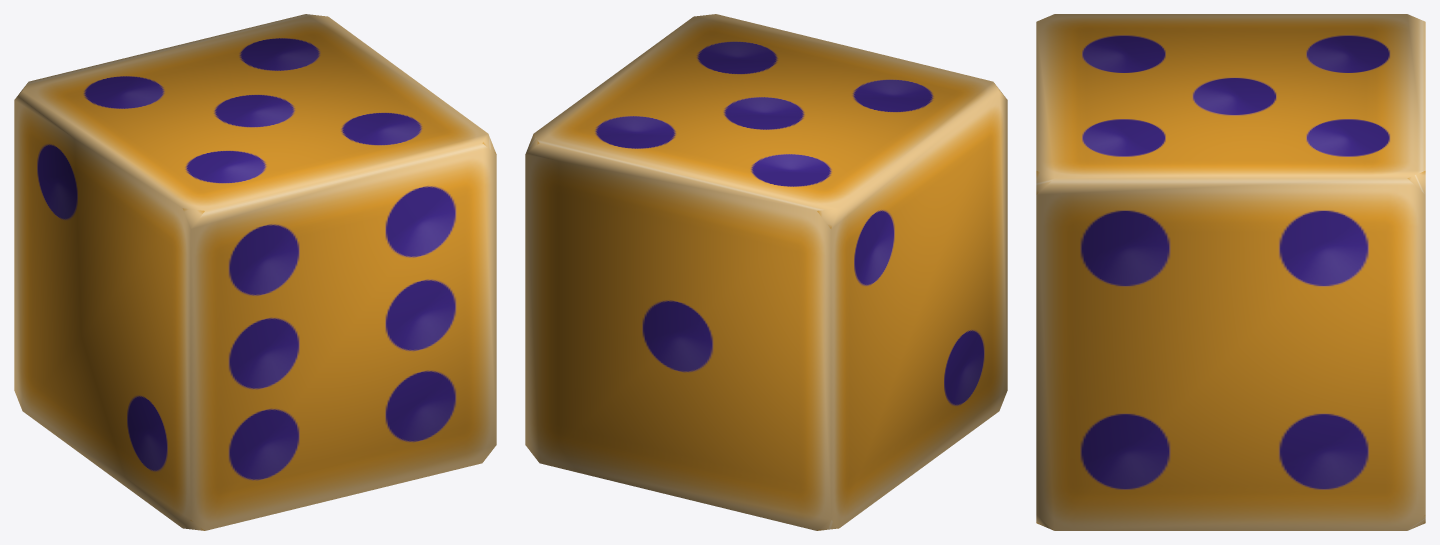
Rendered from die.FBX.
The picture shows the model from 3 angles, left to right: view 1: azimuth 30°, elevation 25°; view 2: azimuth 150°, elevation 25°; view 3: azimuth 270°, elevation 25°; orthographic projection. The views are drawn at different scales.
Visible parts, largest first — view 1: die; view 2: die; view 3: die.
Boxes of the visible parts, left/top/right/bottom form: die: left=14, top=14, right=496, bottom=530; die: left=525, top=14, right=1007, bottom=530; die: left=1036, top=14, right=1425, bottom=530.
Bounding box in the file's own units: 60 × 60 × 60.
1 material, 1 textured.
